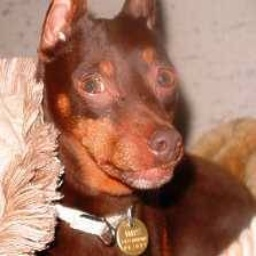dog: (36, 0, 256, 256)
